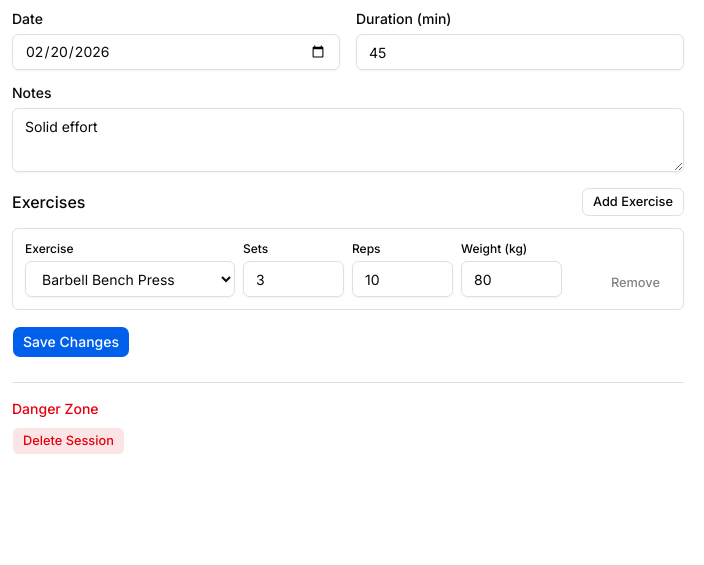
Scenario: EditWorkoutSessionForm › editWorkoutSessionForm_addExerciseClicked_addsSecondRowAndEnablesRemoval
This screenshot has width=704, height=565.
Click the button "Add Exercise" at (633, 202), box [582,188,684,216]
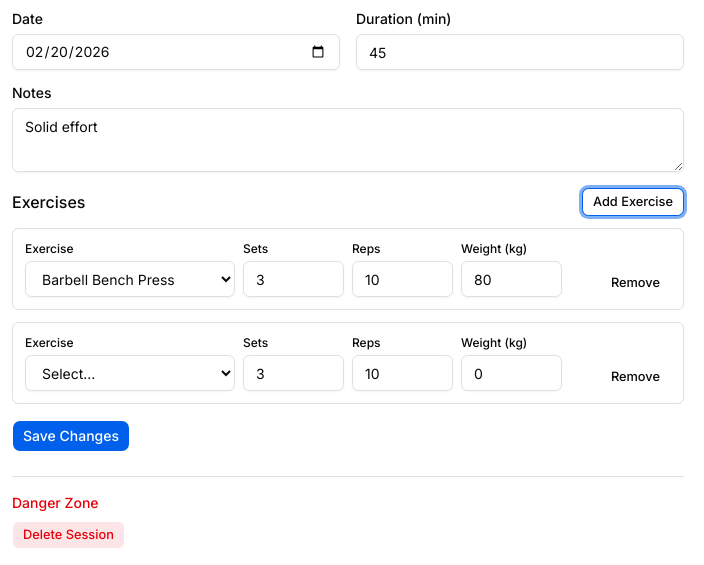
Now the number of dropdowns is 2, box [25,261,235,297]; [25,355,235,391]
Now the number of buttons "Remove" is 2, box [600,269,671,297]; [600,363,671,391]
Now the 1st button "Remove" is enabled, box [600,269,671,297]
